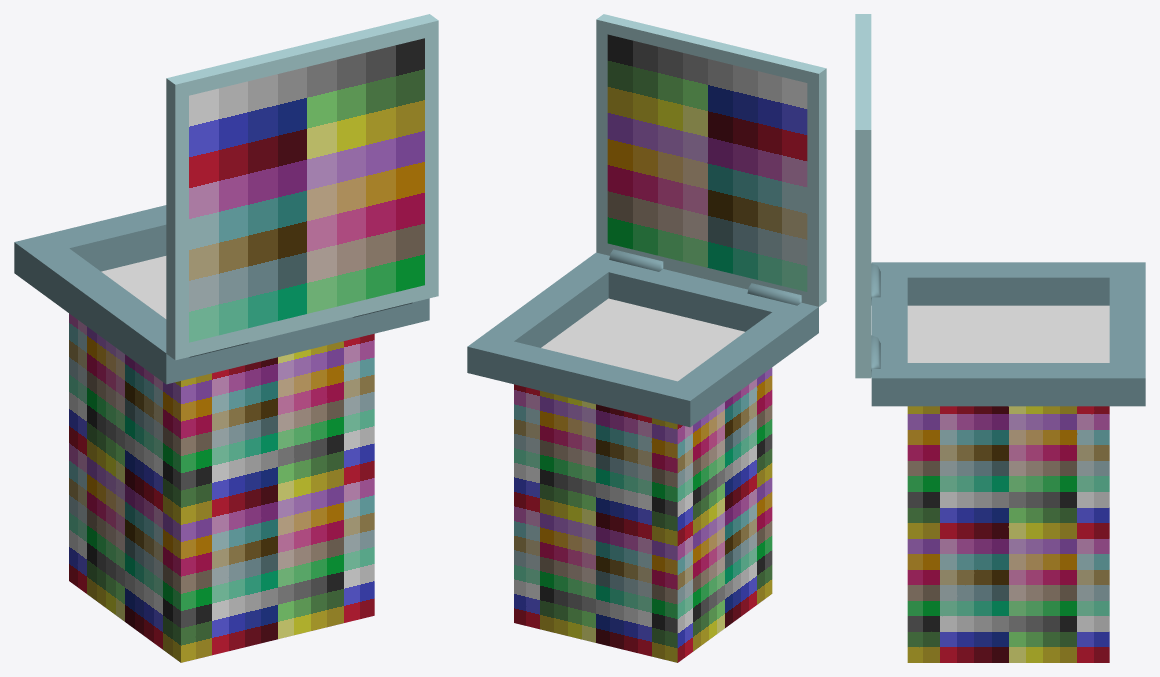
Rendered from mike_trapdoor.fbx.
3 views of the same model, side by side, from view 1: azimuth 30°, elevation 25°; view 2: azimuth 150°, elevation 25°; view 3: azimuth 270°, elevation 25° (orthographic). The views are drawn at different scales.
Parts seen in each view (by area): view 1: TrapDoorHoleDecal, TrapDoor, TrapDoorHole; view 2: TrapDoorHoleDecal, TrapDoor, TrapDoorHole, TrapDoorHinges; view 3: TrapDoorHoleDecal, TrapDoorHole, TrapDoor, TrapDoorHinges.
Part boxes in pixels (box(x1,y1,x2,y2)): TrapDoorHoleDecal: box(69, 313, 374, 662); TrapDoor: box(166, 14, 438, 360); TrapDoorHole: box(14, 205, 429, 384); TrapDoorHoleDecal: box(514, 367, 772, 662); TrapDoor: box(596, 14, 826, 306); TrapDoorHole: box(467, 252, 818, 427); TrapDoorHinges: box(609, 249, 801, 305); TrapDoorHoleDecal: box(907, 406, 1109, 662); TrapDoorHole: box(871, 262, 1145, 406); TrapDoor: box(855, 14, 871, 378); TrapDoorHinges: box(871, 263, 880, 376).
Size of what is drawn, in the model's own units: 2 by 2.12 by 4.41.
